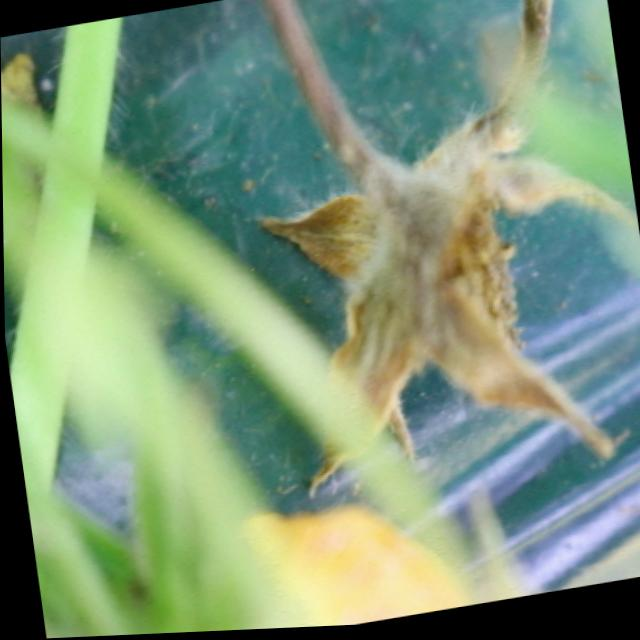Gray Mold: (254, 0, 638, 491)
